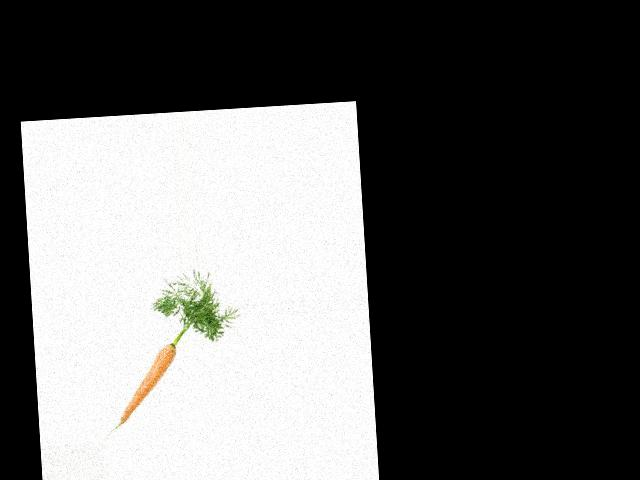carrot: (111, 339, 182, 429)
